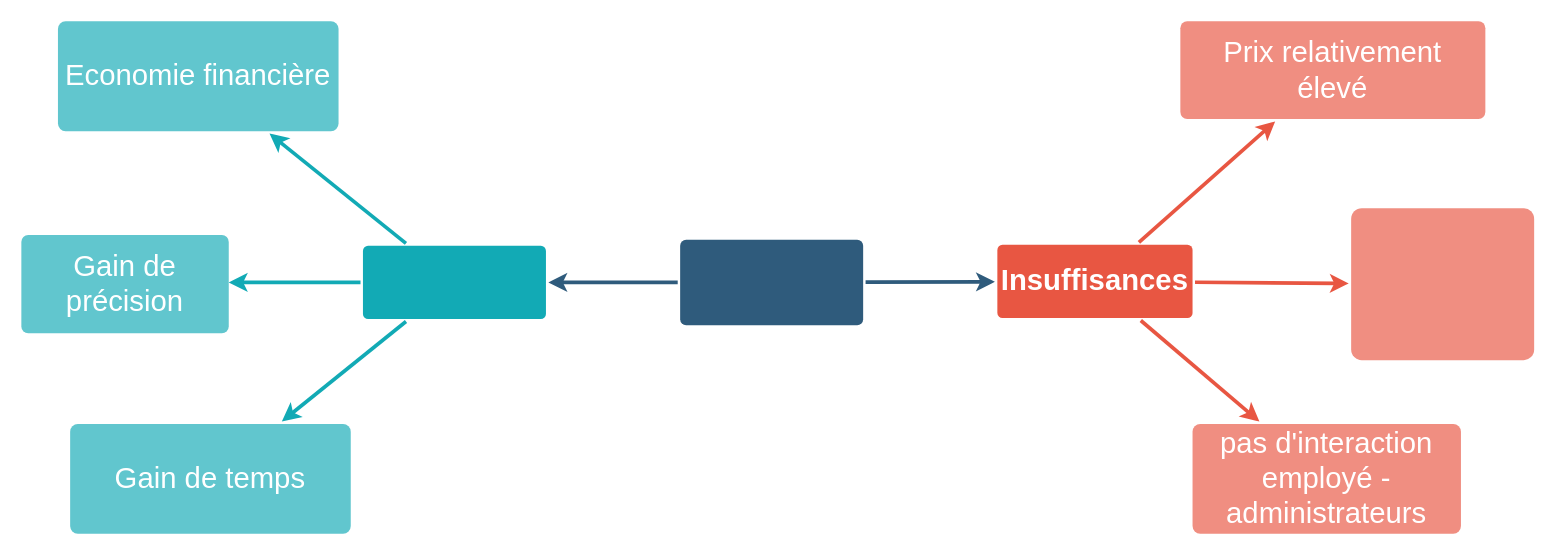
Some shapes in this 1554 by 554 pixel diagram are drawn without their labels. Each missing label, with the centre of its shape:
Avantages: [453,281]
Réduction des interactions entre RH: [1442,284]
Solutions existantes: [771,282]
